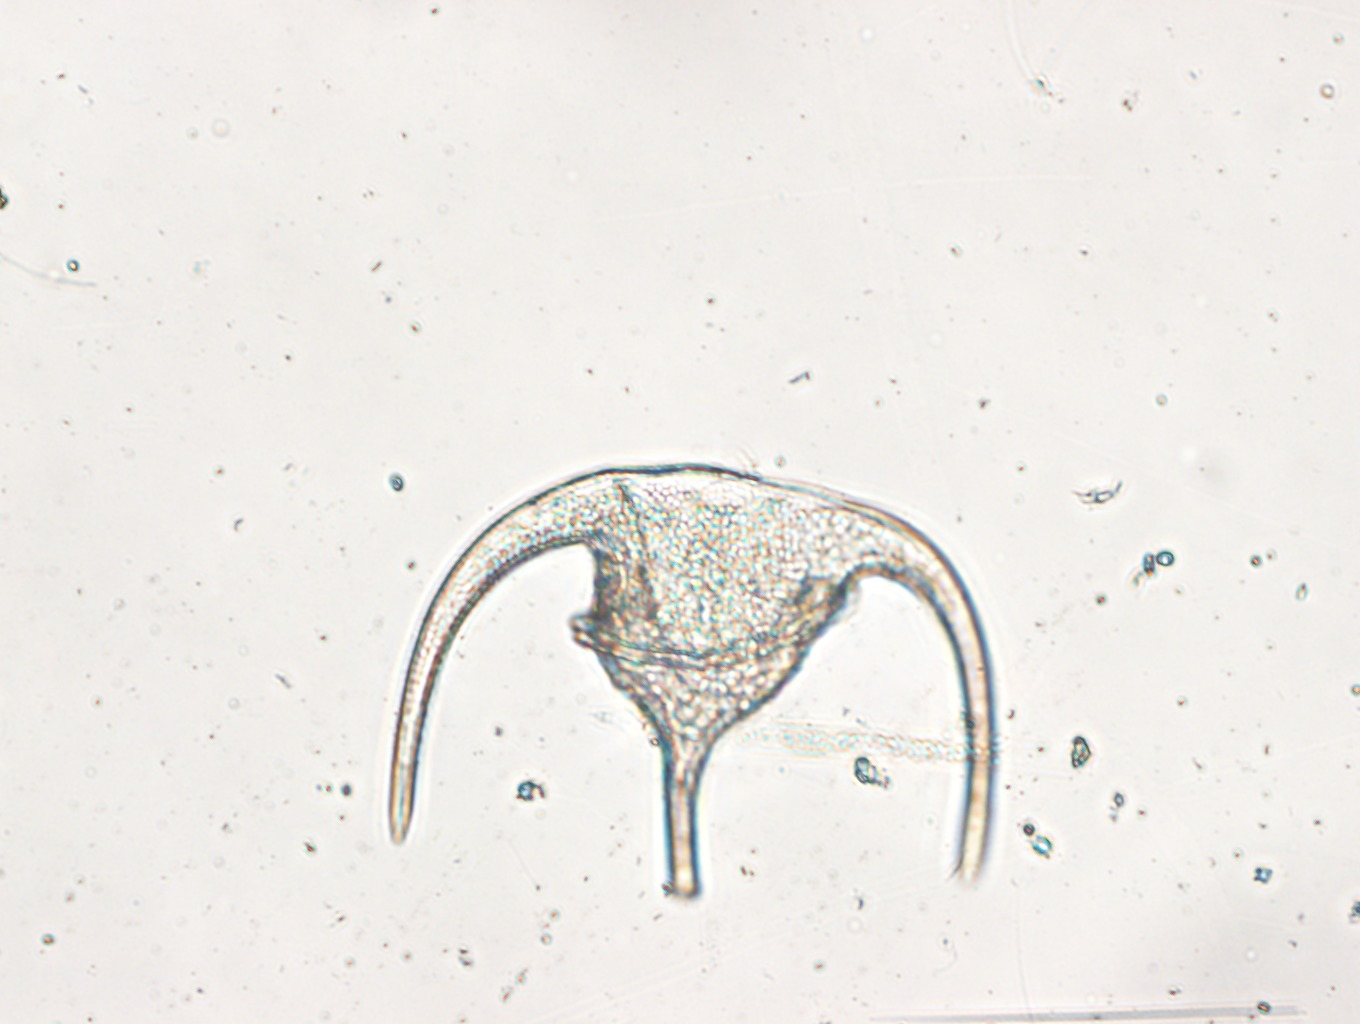ceratium tripos: (381, 458, 1011, 901)
